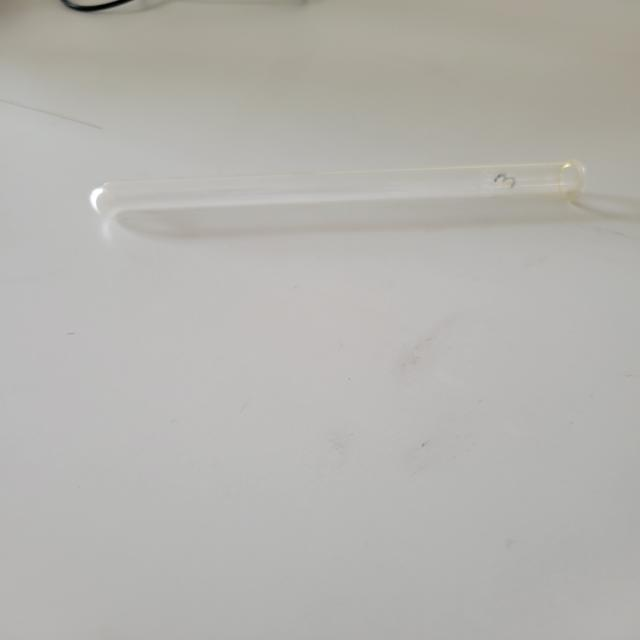Test_Tube: (70, 137, 606, 272)
